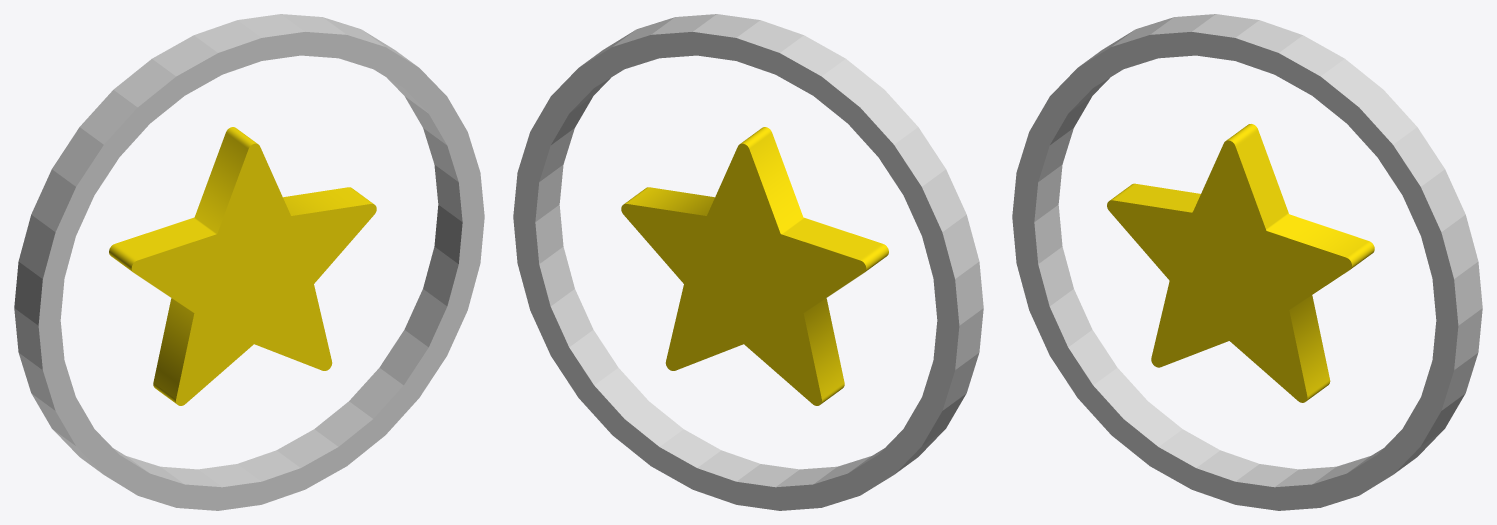
Rendered from star.fbx.
3 views of the same model, side by side, from view 1: azimuth 30°, elevation 25°; view 2: azimuth 150°, elevation 25°; view 3: azimuth 330°, elevation 25° (orthographic).
Parts seen in each view (by area): view 1: Cylinder, Curve; view 2: Cylinder, Curve; view 3: Cylinder, Curve.
Boxes of the visible parts, left/top/right/bottom form: Cylinder: left=14, top=14, right=484, bottom=510; Curve: left=109, top=127, right=376, bottom=405; Cylinder: left=513, top=14, right=983, bottom=510; Curve: left=621, top=127, right=888, bottom=405; Cylinder: left=1012, top=14, right=1482, bottom=510; Curve: left=1107, top=124, right=1374, bottom=402.
Bounding box in the file's own units: 407 × 407 × 38.44.
